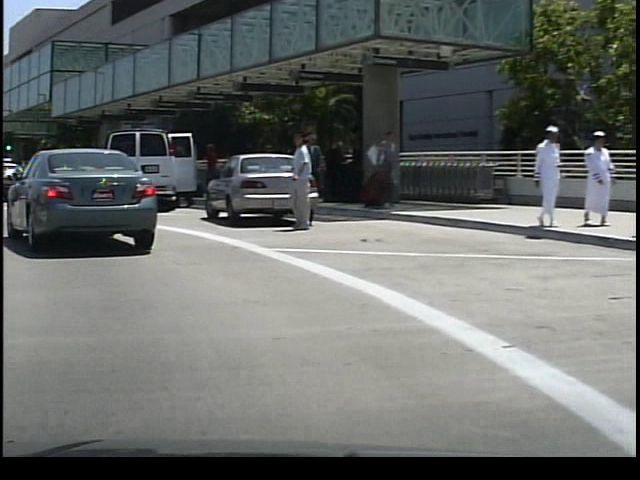person: (520, 124, 560, 233), (278, 127, 316, 234), (574, 127, 612, 228), (365, 125, 397, 213), (196, 138, 220, 204)
